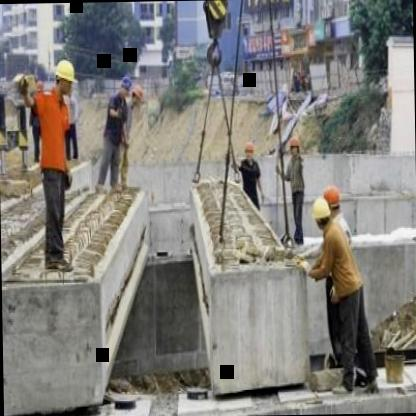helmet: (48, 56, 76, 99), (310, 196, 334, 230), (320, 180, 344, 214), (116, 73, 132, 98), (241, 137, 256, 160), (288, 132, 300, 160), (129, 85, 144, 107)
